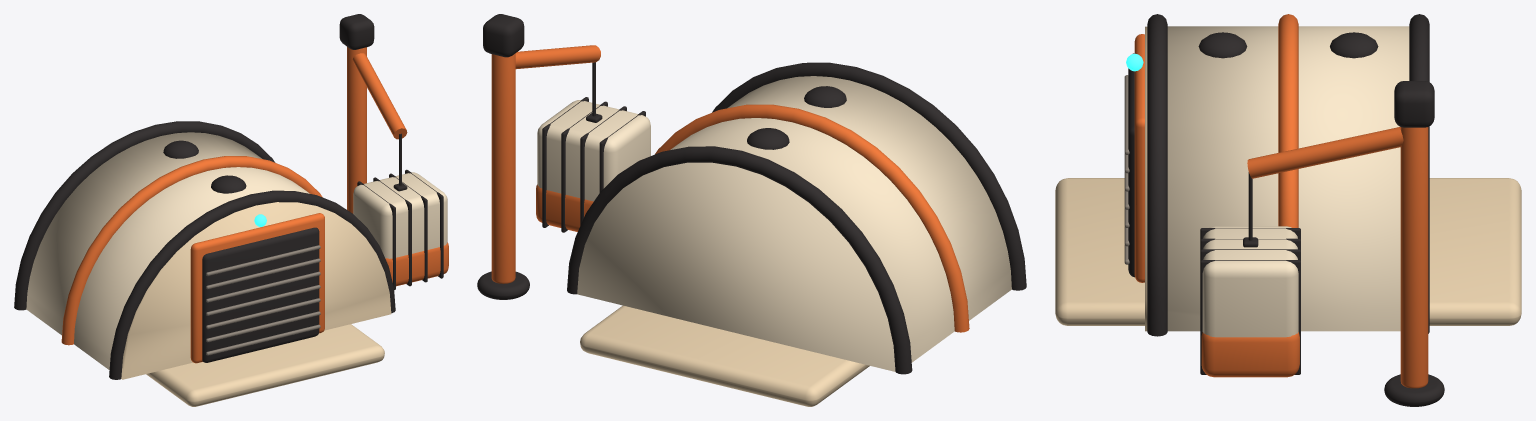
The model's file is warehouse-1.glb.
3 renders of one model, left to right at view 1: azimuth 30°, elevation 25°; view 2: azimuth 150°, elevation 25°; view 3: azimuth 270°, elevation 25°, orthographic. The views are drawn at different scales.
Visible parts, largest first — view 1: Cube.012, Cube.002, Cube, Cube.001, Cube.003; view 2: Cube.012, Cube.002, Cube.001, Cube; view 3: Cube.012, Cube, Cube.001, Cube.002, Cube.003.
Boxes of the visible parts, <box> form: Cube.012: <box>26,132,447,369</box>; Cube.002: <box>14,14,443,379</box>; Cube: <box>121,202,391,406</box>; Cube.001: <box>61,47,448,363</box>; Cube.003: <box>206,245,320,355</box>; Cube.012: <box>537,76,1011,371</box>; Cube.002: <box>477,14,1026,374</box>; Cube.001: <box>491,45,969,332</box>; Cube: <box>580,305,869,406</box>; Cube.012: <box>1167,26,1409,337</box>; Cube: <box>1055,26,1521,331</box>; Cube.001: <box>1134,14,1428,388</box>; Cube.002: <box>1128,14,1444,406</box>; Cube.003: <box>1124,75,1129,264</box>.
Size of the model in its own units: 2.27 by 1.36 by 1.85.
